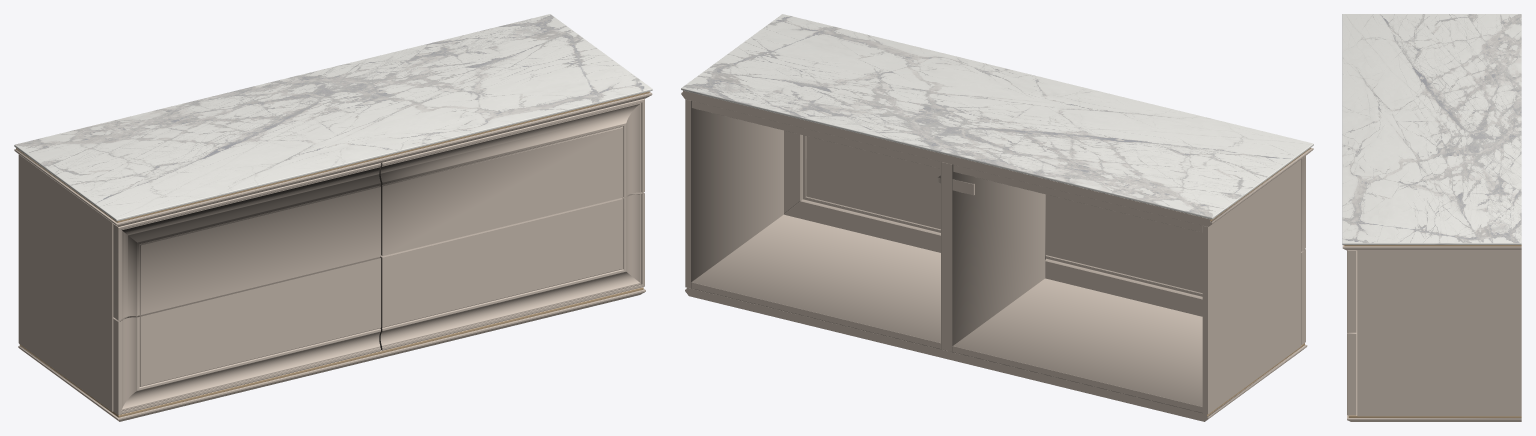
The picture shows the model from 3 angles, left to right: view 1: azimuth 30°, elevation 25°; view 2: azimuth 150°, elevation 25°; view 3: azimuth 270°, elevation 25°; orthographic projection. The views are drawn at different scales.
Parts seen in each view (by area): view 1: BL01.012, BL05.001; view 2: BL05.001, BL01.012; view 3: BL05.001, BL01.012.
Boxes of the visible parts, x1,y1,x2,y2 form: BL01.012: (113, 98, 644, 414); BL05.001: (14, 14, 652, 421); BL05.001: (681, 14, 1313, 421); BL01.012: (784, 130, 1305, 345); BL05.001: (1342, 14, 1521, 421); BL01.012: (1347, 250, 1356, 415).
Size of the model in its own units: 1.5 by 0.556 by 0.4963.
3 materials, 2 textured.
